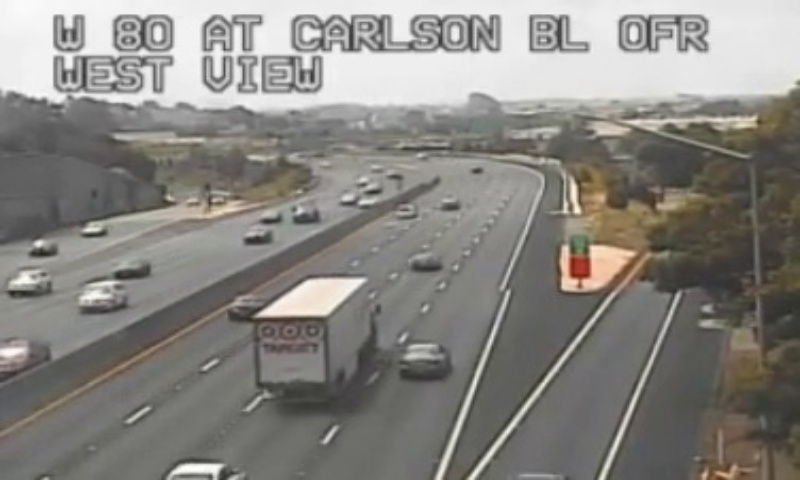car: (400, 342, 446, 377), (225, 295, 265, 321)
truck: (253, 276, 374, 406)
